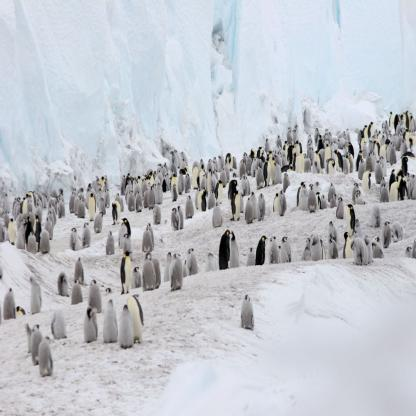Penguin: (234, 288, 262, 336), (339, 196, 365, 244), (114, 304, 138, 351), (27, 320, 51, 366), (34, 330, 57, 378), (101, 295, 120, 351), (128, 295, 150, 343), (213, 223, 235, 270), (164, 246, 186, 292), (117, 246, 137, 295), (23, 269, 44, 315), (49, 306, 72, 346), (226, 182, 245, 230), (115, 210, 136, 252), (2, 282, 21, 326), (252, 230, 272, 271), (81, 303, 99, 347), (140, 220, 160, 259), (393, 147, 413, 183), (241, 183, 260, 220), (140, 247, 157, 288), (207, 176, 228, 209), (99, 226, 119, 260), (274, 232, 294, 266), (69, 253, 89, 287), (292, 172, 308, 212), (166, 196, 186, 228), (54, 271, 72, 305), (67, 218, 83, 256), (3, 214, 23, 244), (149, 200, 167, 231), (76, 219, 94, 250), (385, 172, 401, 204), (256, 187, 270, 223), (270, 184, 286, 214), (194, 186, 210, 216), (107, 195, 123, 224), (244, 194, 258, 227), (32, 216, 46, 249), (85, 192, 99, 224), (383, 163, 398, 192)
